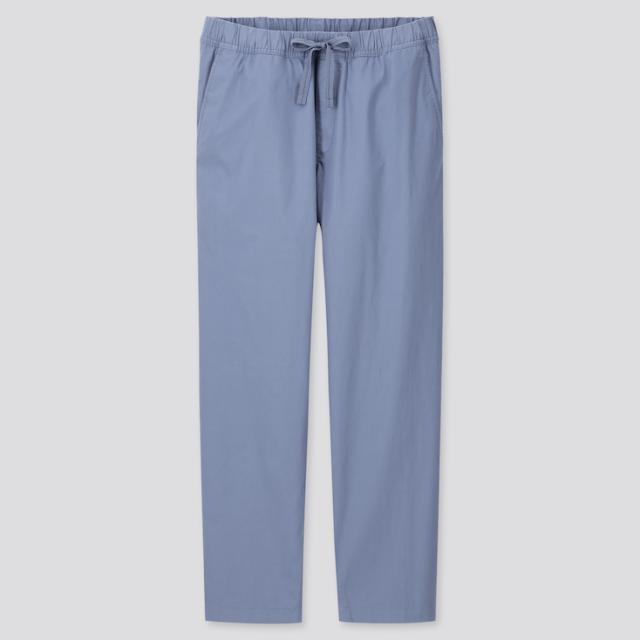long-pants: (195, 16, 446, 630)
